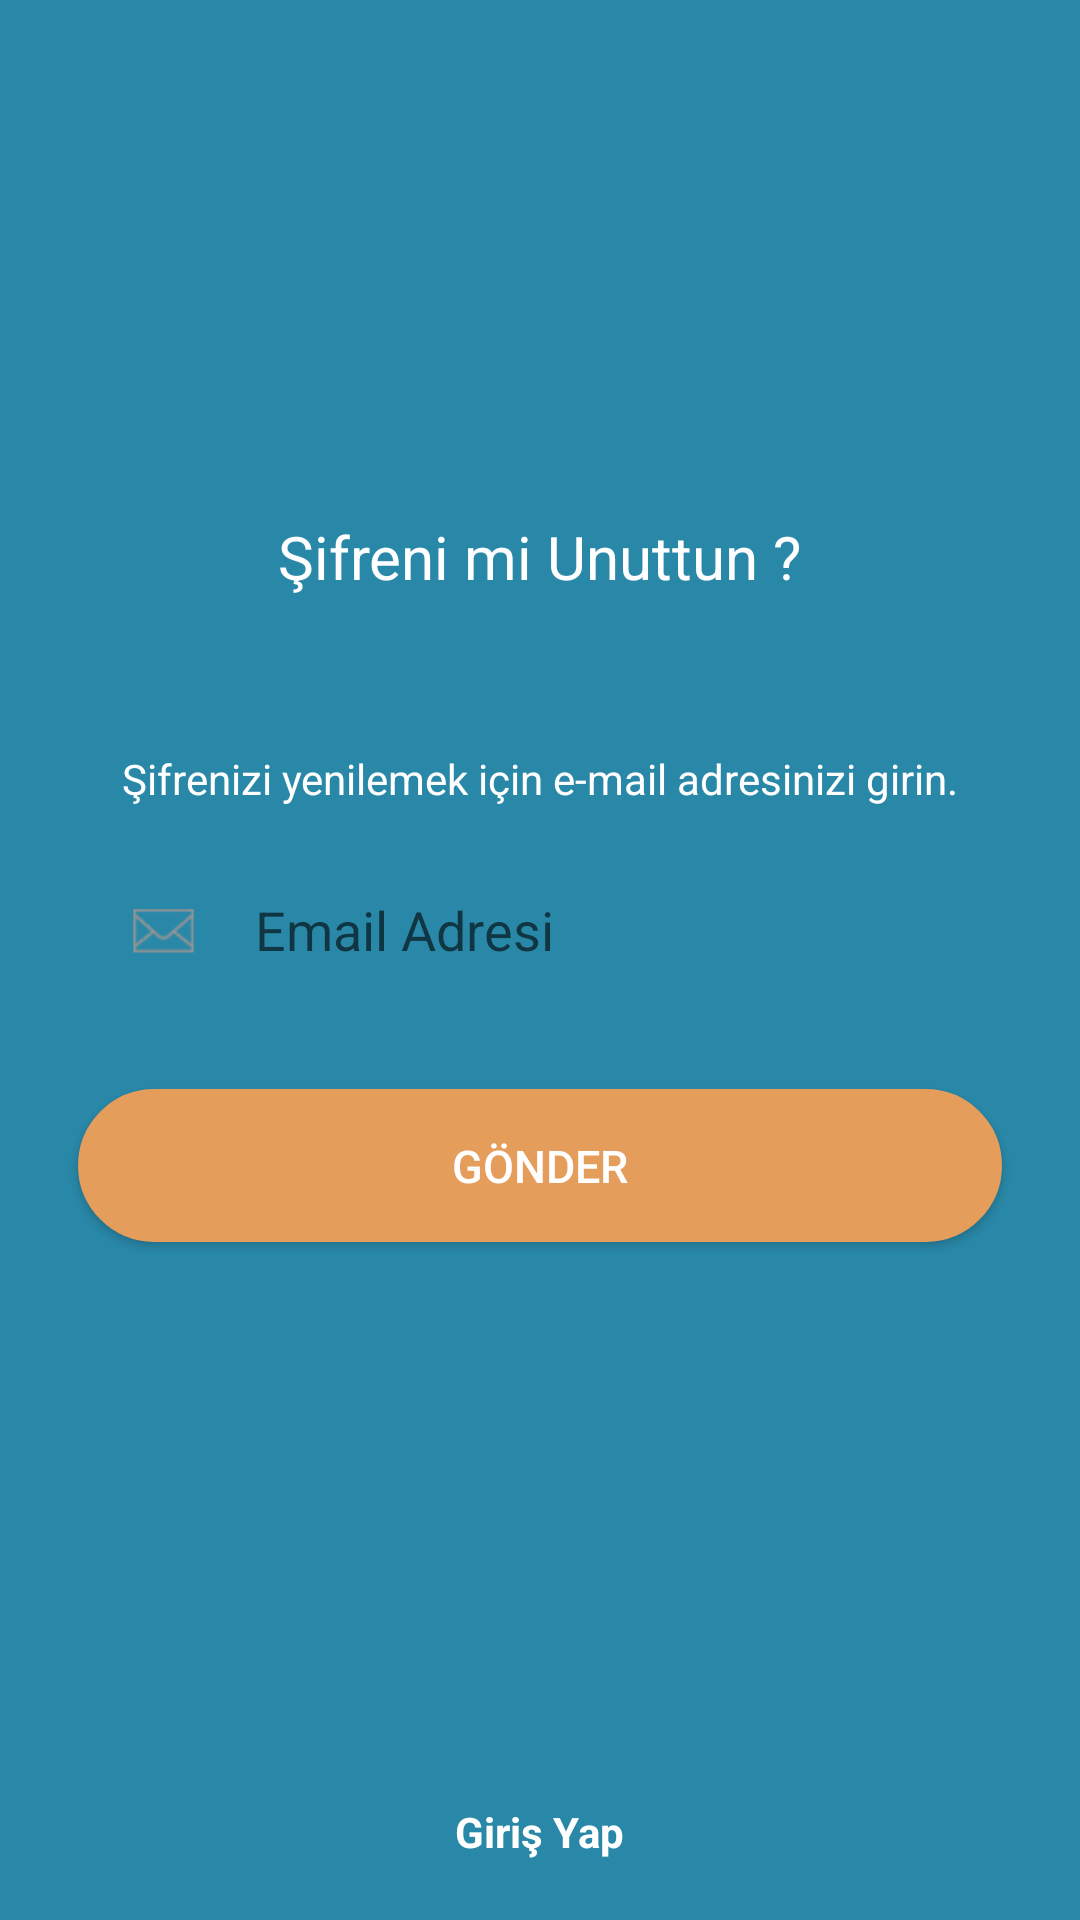

Point at icon controls on the screen. Image size 1080 x 1920, points as point (x, y).
iconepost: point (163, 931)
